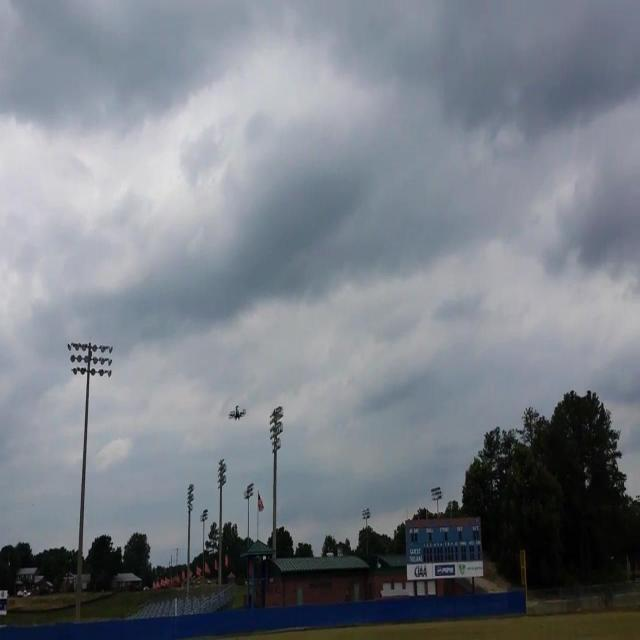UAV: (228, 406, 246, 422)
